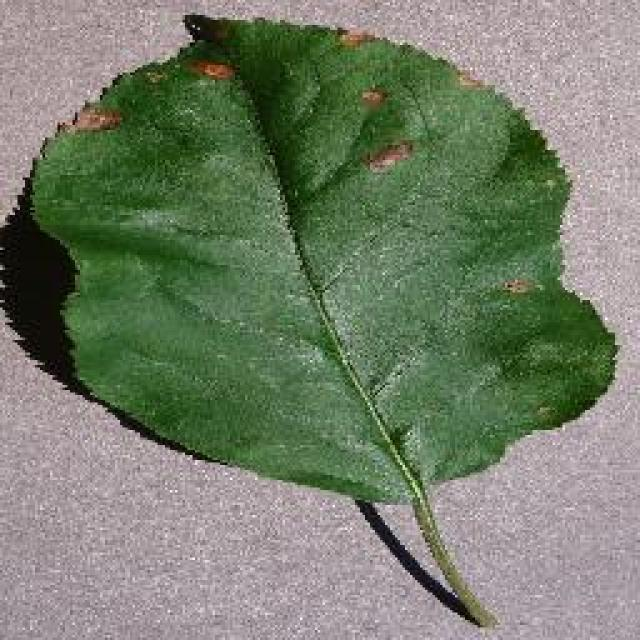apple black rot: (0, 10, 620, 628)
